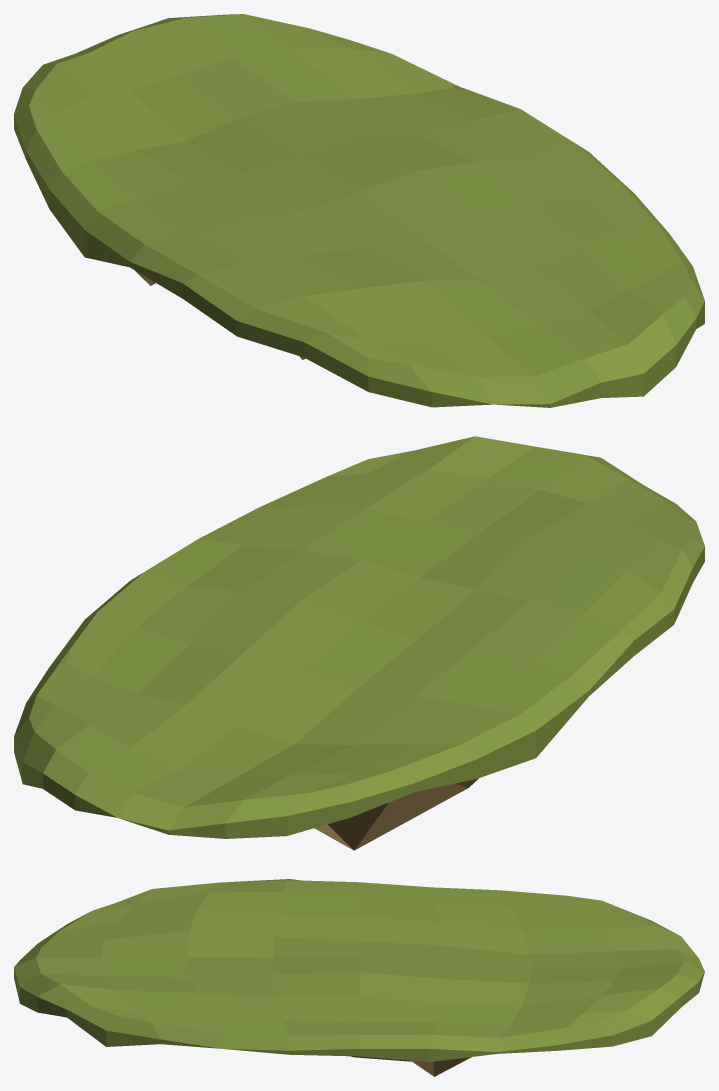
The model's file is platforme_petit2.fbx.
3 renders of one model, top to bottom at view 1: azimuth 30°, elevation 25°; view 2: azimuth 150°, elevation 25°; view 3: azimuth 270°, elevation 25°, orthographic. The views are drawn at different scales.
Parts seen in each view (by area): view 1: Plane.009; view 2: Plane.009; view 3: Plane.009.
Part boxes in pixels (x1,y1,x2,y2): Plane.009: (14,14,704,407); Plane.009: (14,436,704,850); Plane.009: (14,879,704,1076).
Size of the model in its own units: 249 by 86.31 by 454.
